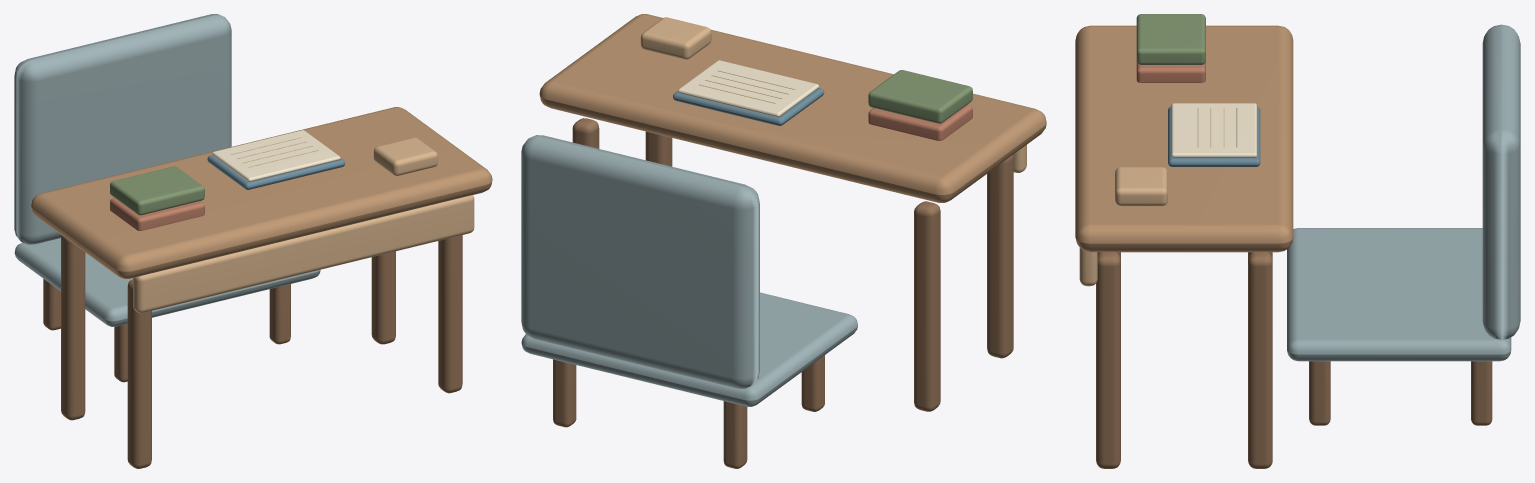
Rendered from loan-desk-props.glb.
The picture shows the model from 3 angles, left to right: view 1: azimuth 30°, elevation 25°; view 2: azimuth 150°, elevation 25°; view 3: azimuth 270°, elevation 25°; orthographic projection. The views are drawn at different scales.
Visible parts, largest first — view 1: Desk.Static.Library | desk chair blue, Desk.Top, Desk.Static.Library | walnut legs, Desk.Static.Library | warm edge, Desk.Static.Library | ivory pages, Desk.ReturnBook.001, Desk.ReturnBook, Desk.Ledger.Cover; view 2: Desk.Static.Library | desk chair blue, Desk.Top, Desk.Static.Library | walnut legs, Desk.Static.Library | ivory pages, Desk.ReturnBook.001, Desk.Static.Library | warm edge, Desk.ReturnBook, Desk.Ledger.Cover; view 3: Desk.Static.Library | desk chair blue, Desk.Top, Desk.Static.Library | walnut legs, Desk.Static.Library | ivory pages, Desk.ReturnBook.001, Desk.Static.Library | warm edge, Desk.ReturnBook, Desk.Ledger.Cover.
Part boxes in pixels (x1,y1,x2,y2): Desk.Static.Library | desk chair blue: [14, 14, 320, 326]; Desk.Top: [31, 107, 492, 278]; Desk.Static.Library | walnut legs: [43, 235, 462, 468]; Desk.Static.Library | warm edge: [133, 137, 474, 313]; Desk.Static.Library | ivory pages: [212, 130, 340, 181]; Desk.ReturnBook.001: [110, 166, 204, 215]; Desk.ReturnBook: [110, 198, 204, 230]; Desk.Ledger.Cover: [207, 155, 345, 189]; Desk.Static.Library | desk chair blue: [521, 135, 857, 406]; Desk.Top: [539, 14, 1046, 202]; Desk.Static.Library | walnut legs: [553, 118, 1013, 468]; Desk.Static.Library | ivory pages: [678, 60, 819, 117]; Desk.ReturnBook.001: [868, 70, 972, 123]; Desk.Static.Library | warm edge: [640, 17, 1026, 172]; Desk.ReturnBook: [868, 104, 972, 140]; Desk.Ledger.Cover: [673, 88, 824, 125]; Desk.Static.Library | desk chair blue: [1287, 24, 1520, 361]; Desk.Top: [1075, 25, 1293, 252]; Desk.Static.Library | walnut legs: [1096, 252, 1492, 468]; Desk.Static.Library | ivory pages: [1171, 103, 1256, 157]; Desk.ReturnBook.001: [1136, 14, 1205, 64]; Desk.Static.Library | warm edge: [1079, 167, 1167, 286]; Desk.ReturnBook: [1136, 61, 1205, 82]; Desk.Ledger.Cover: [1168, 106, 1260, 166].
Bounding box in the file's own units: 1.5 × 1.01 × 1.35.
